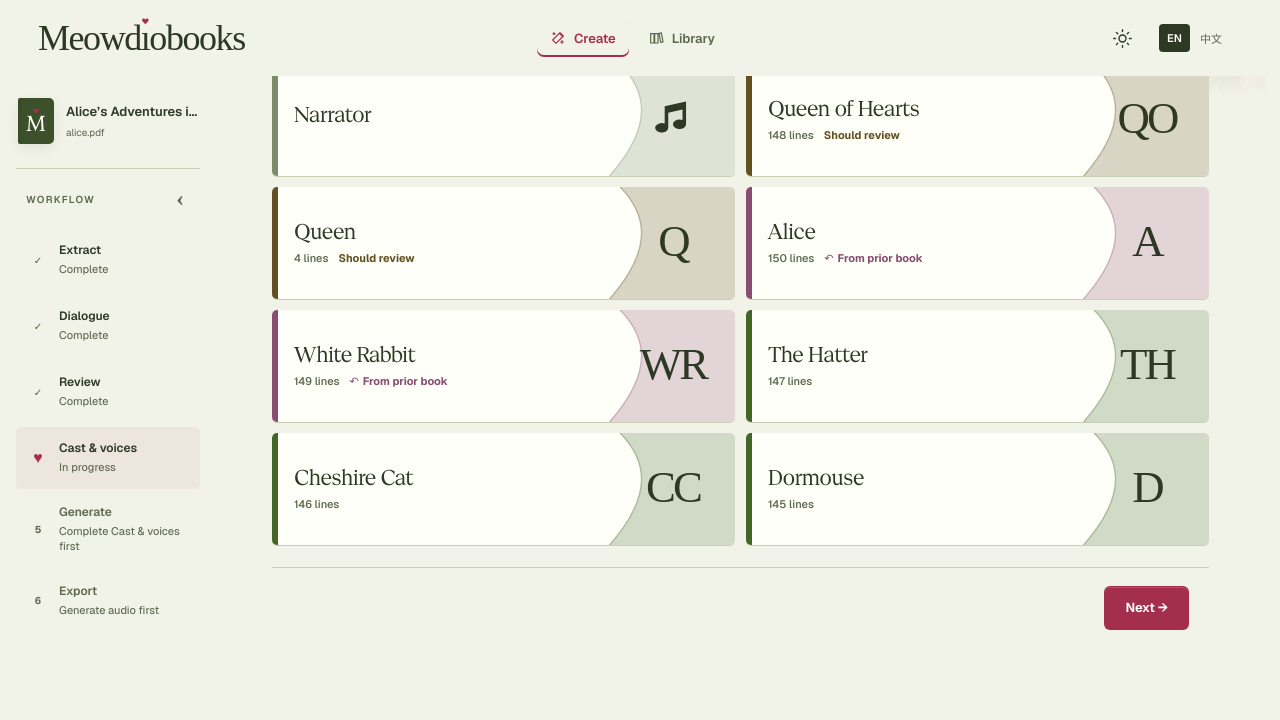
Test case: Voice design language confirmation › preselects and ranks detection, then preserves an explicit change across modal opens
(page scrolled)
Click the button "Next →" at (1147, 608), box x1=1104 y1=586 x2=1189 y2=630
(page scrolled)
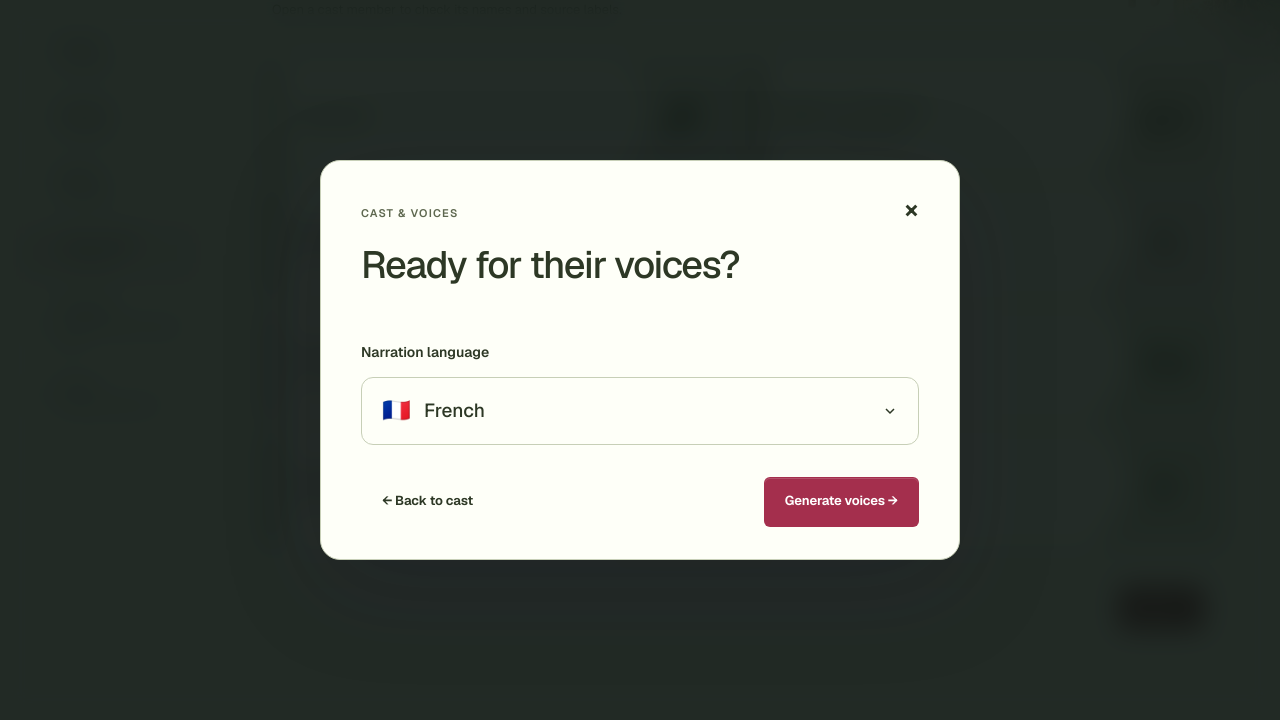
Now the dropdown named "Narration language" holds "french"
Now the button "Generate voices →" is enabled, box x1=764 y1=477 x2=919 y2=527
Click the dropdown named "Narration language" at (454, 411), box x1=361 y1=377 x2=919 y2=445
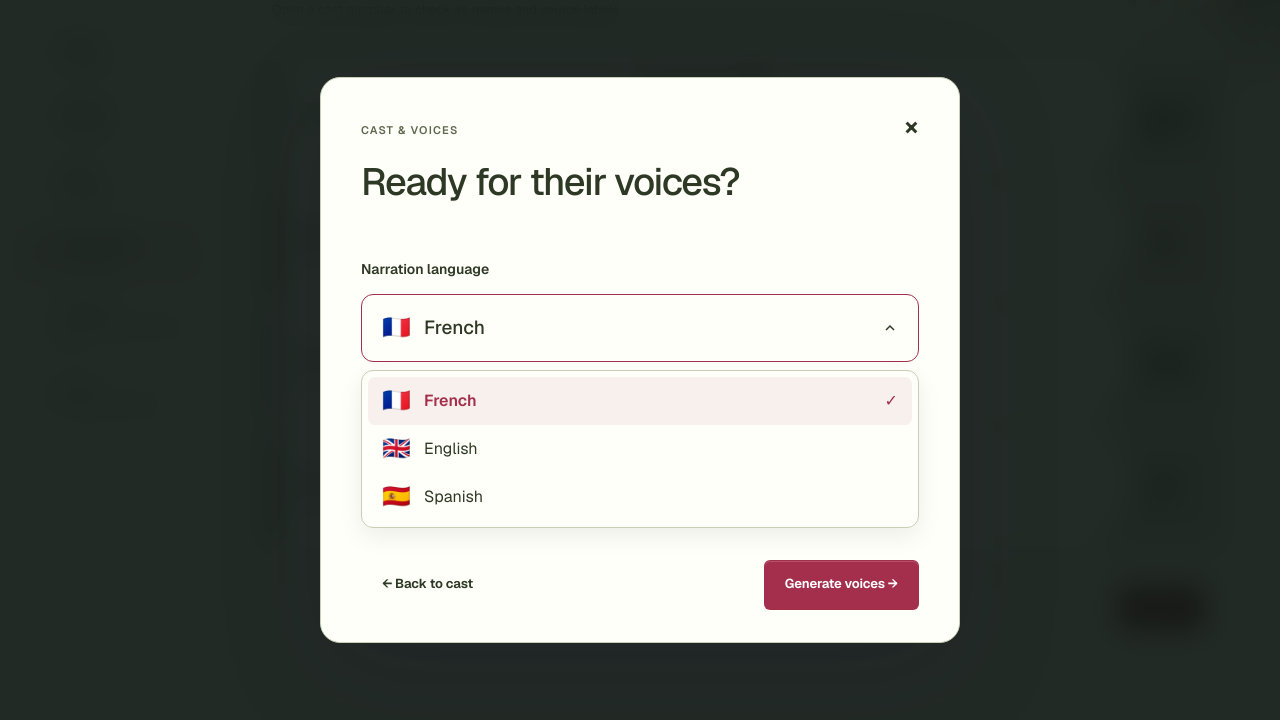
Click the option "🇬🇧 english" at (430, 448), box x1=382 y1=433 x2=478 y2=463
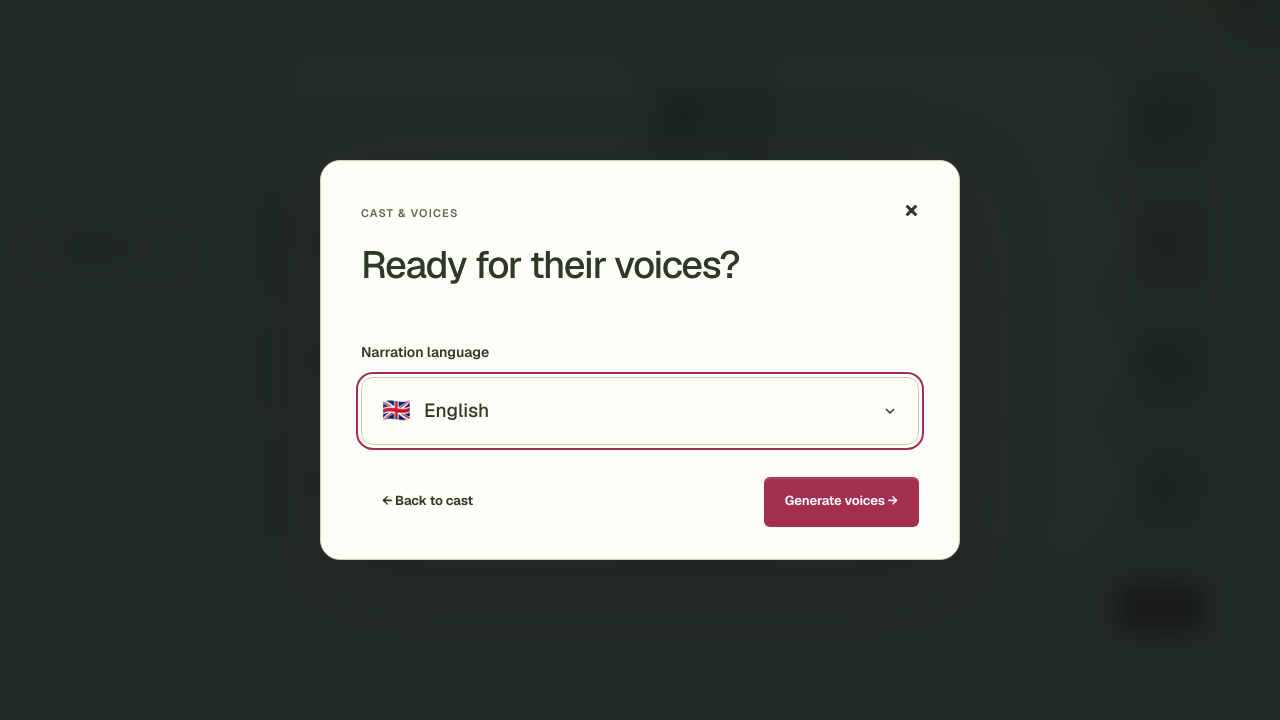
Click the button "← Back to cast" at (428, 502), box x1=361 y1=477 x2=494 y2=527
(page scrolled)
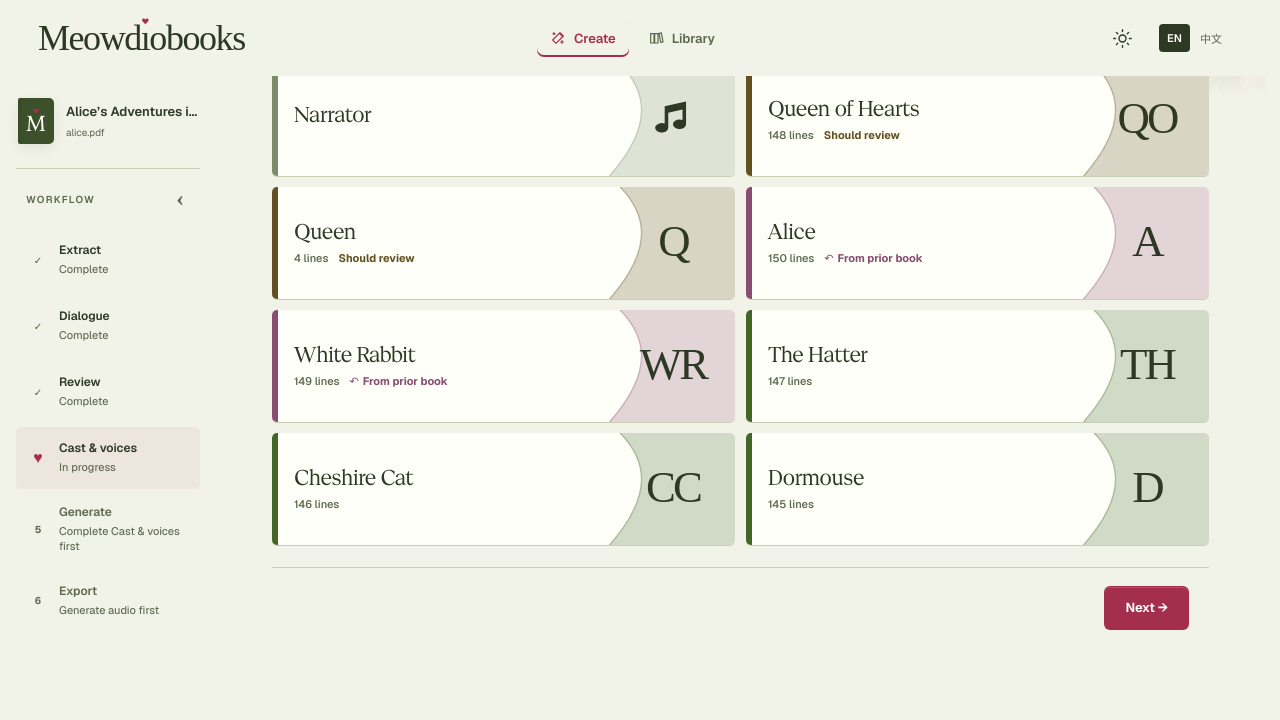
Click the button "Next →" at (1147, 608), box x1=1104 y1=586 x2=1189 y2=630
(page scrolled)
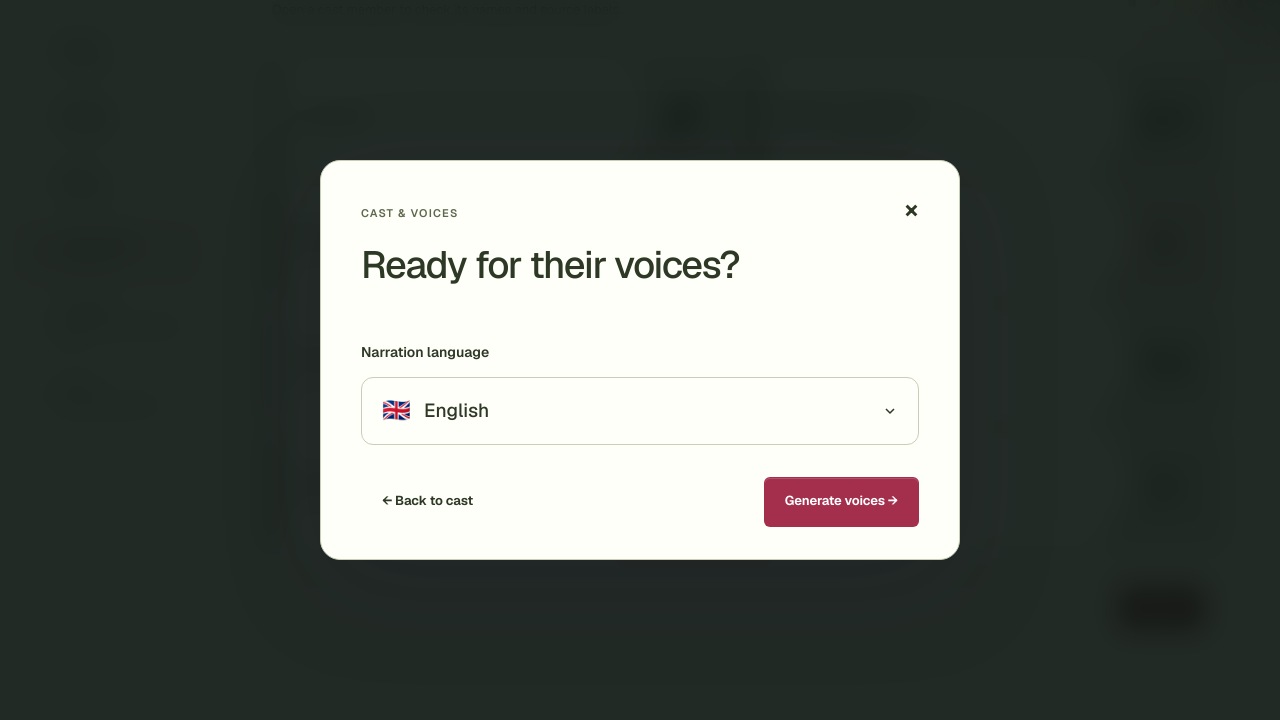
Now the dropdown named "Narration language" holds "english", box x1=361 y1=377 x2=919 y2=445
